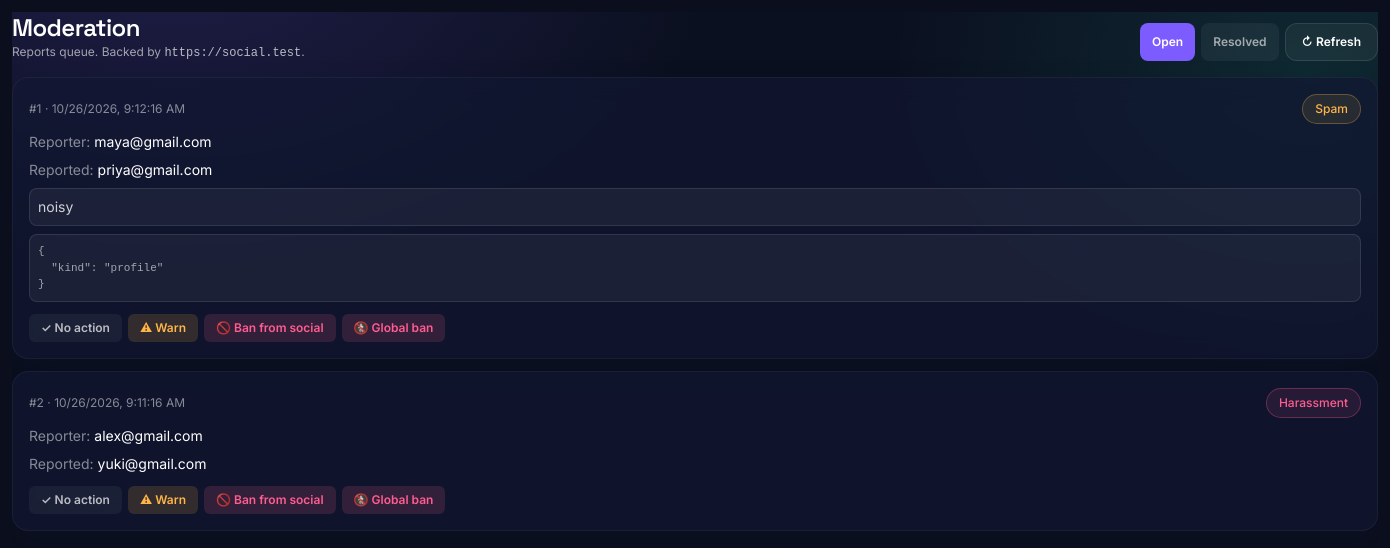
Test case: AdminModeration › clicking 'No action' POSTs the resolve endpoint and removes the row
Expected: the text "#1 · 10/26/2026, 9:12:16 AM" is shown, [29,101,185,117]
Click the button "✓ No action" below "{ \"kind\": \"profile\" }" at (76, 328), box [29,314,122,342]
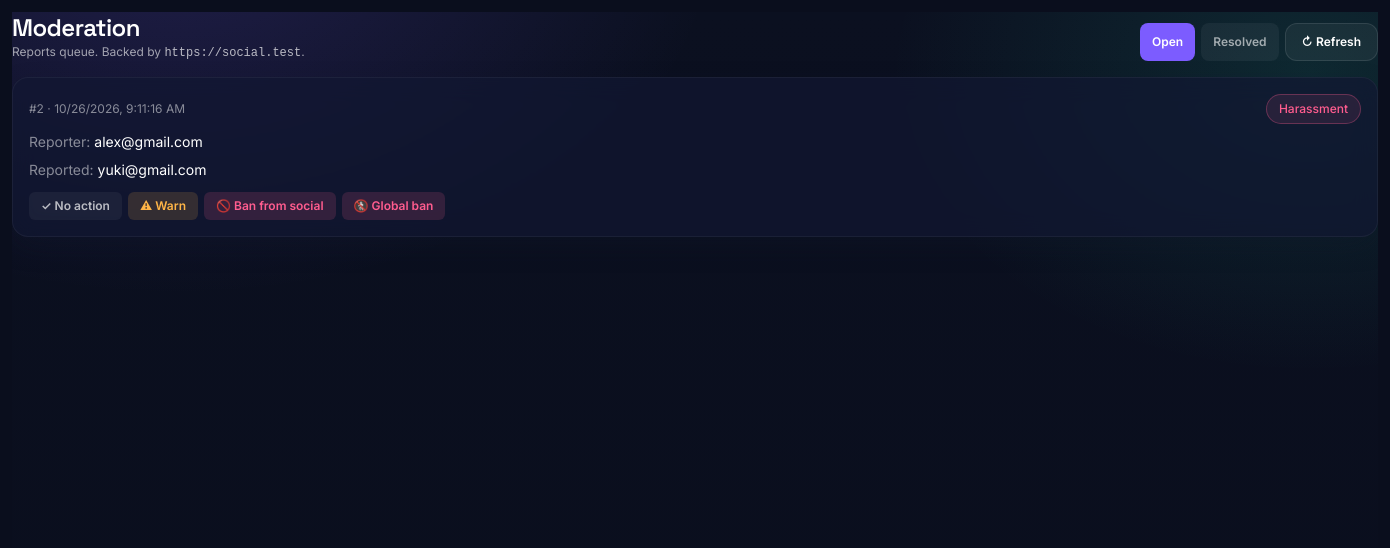
Result: the text "#1" is gone
